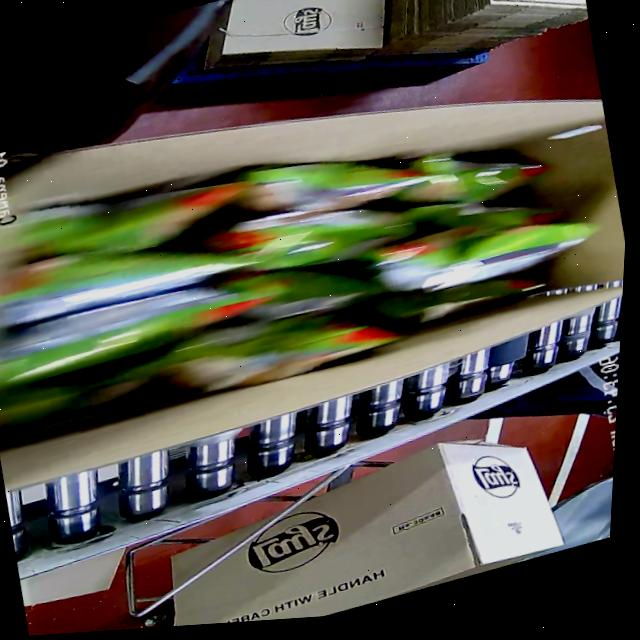YOGURT_HERB: (0, 64, 611, 463)
